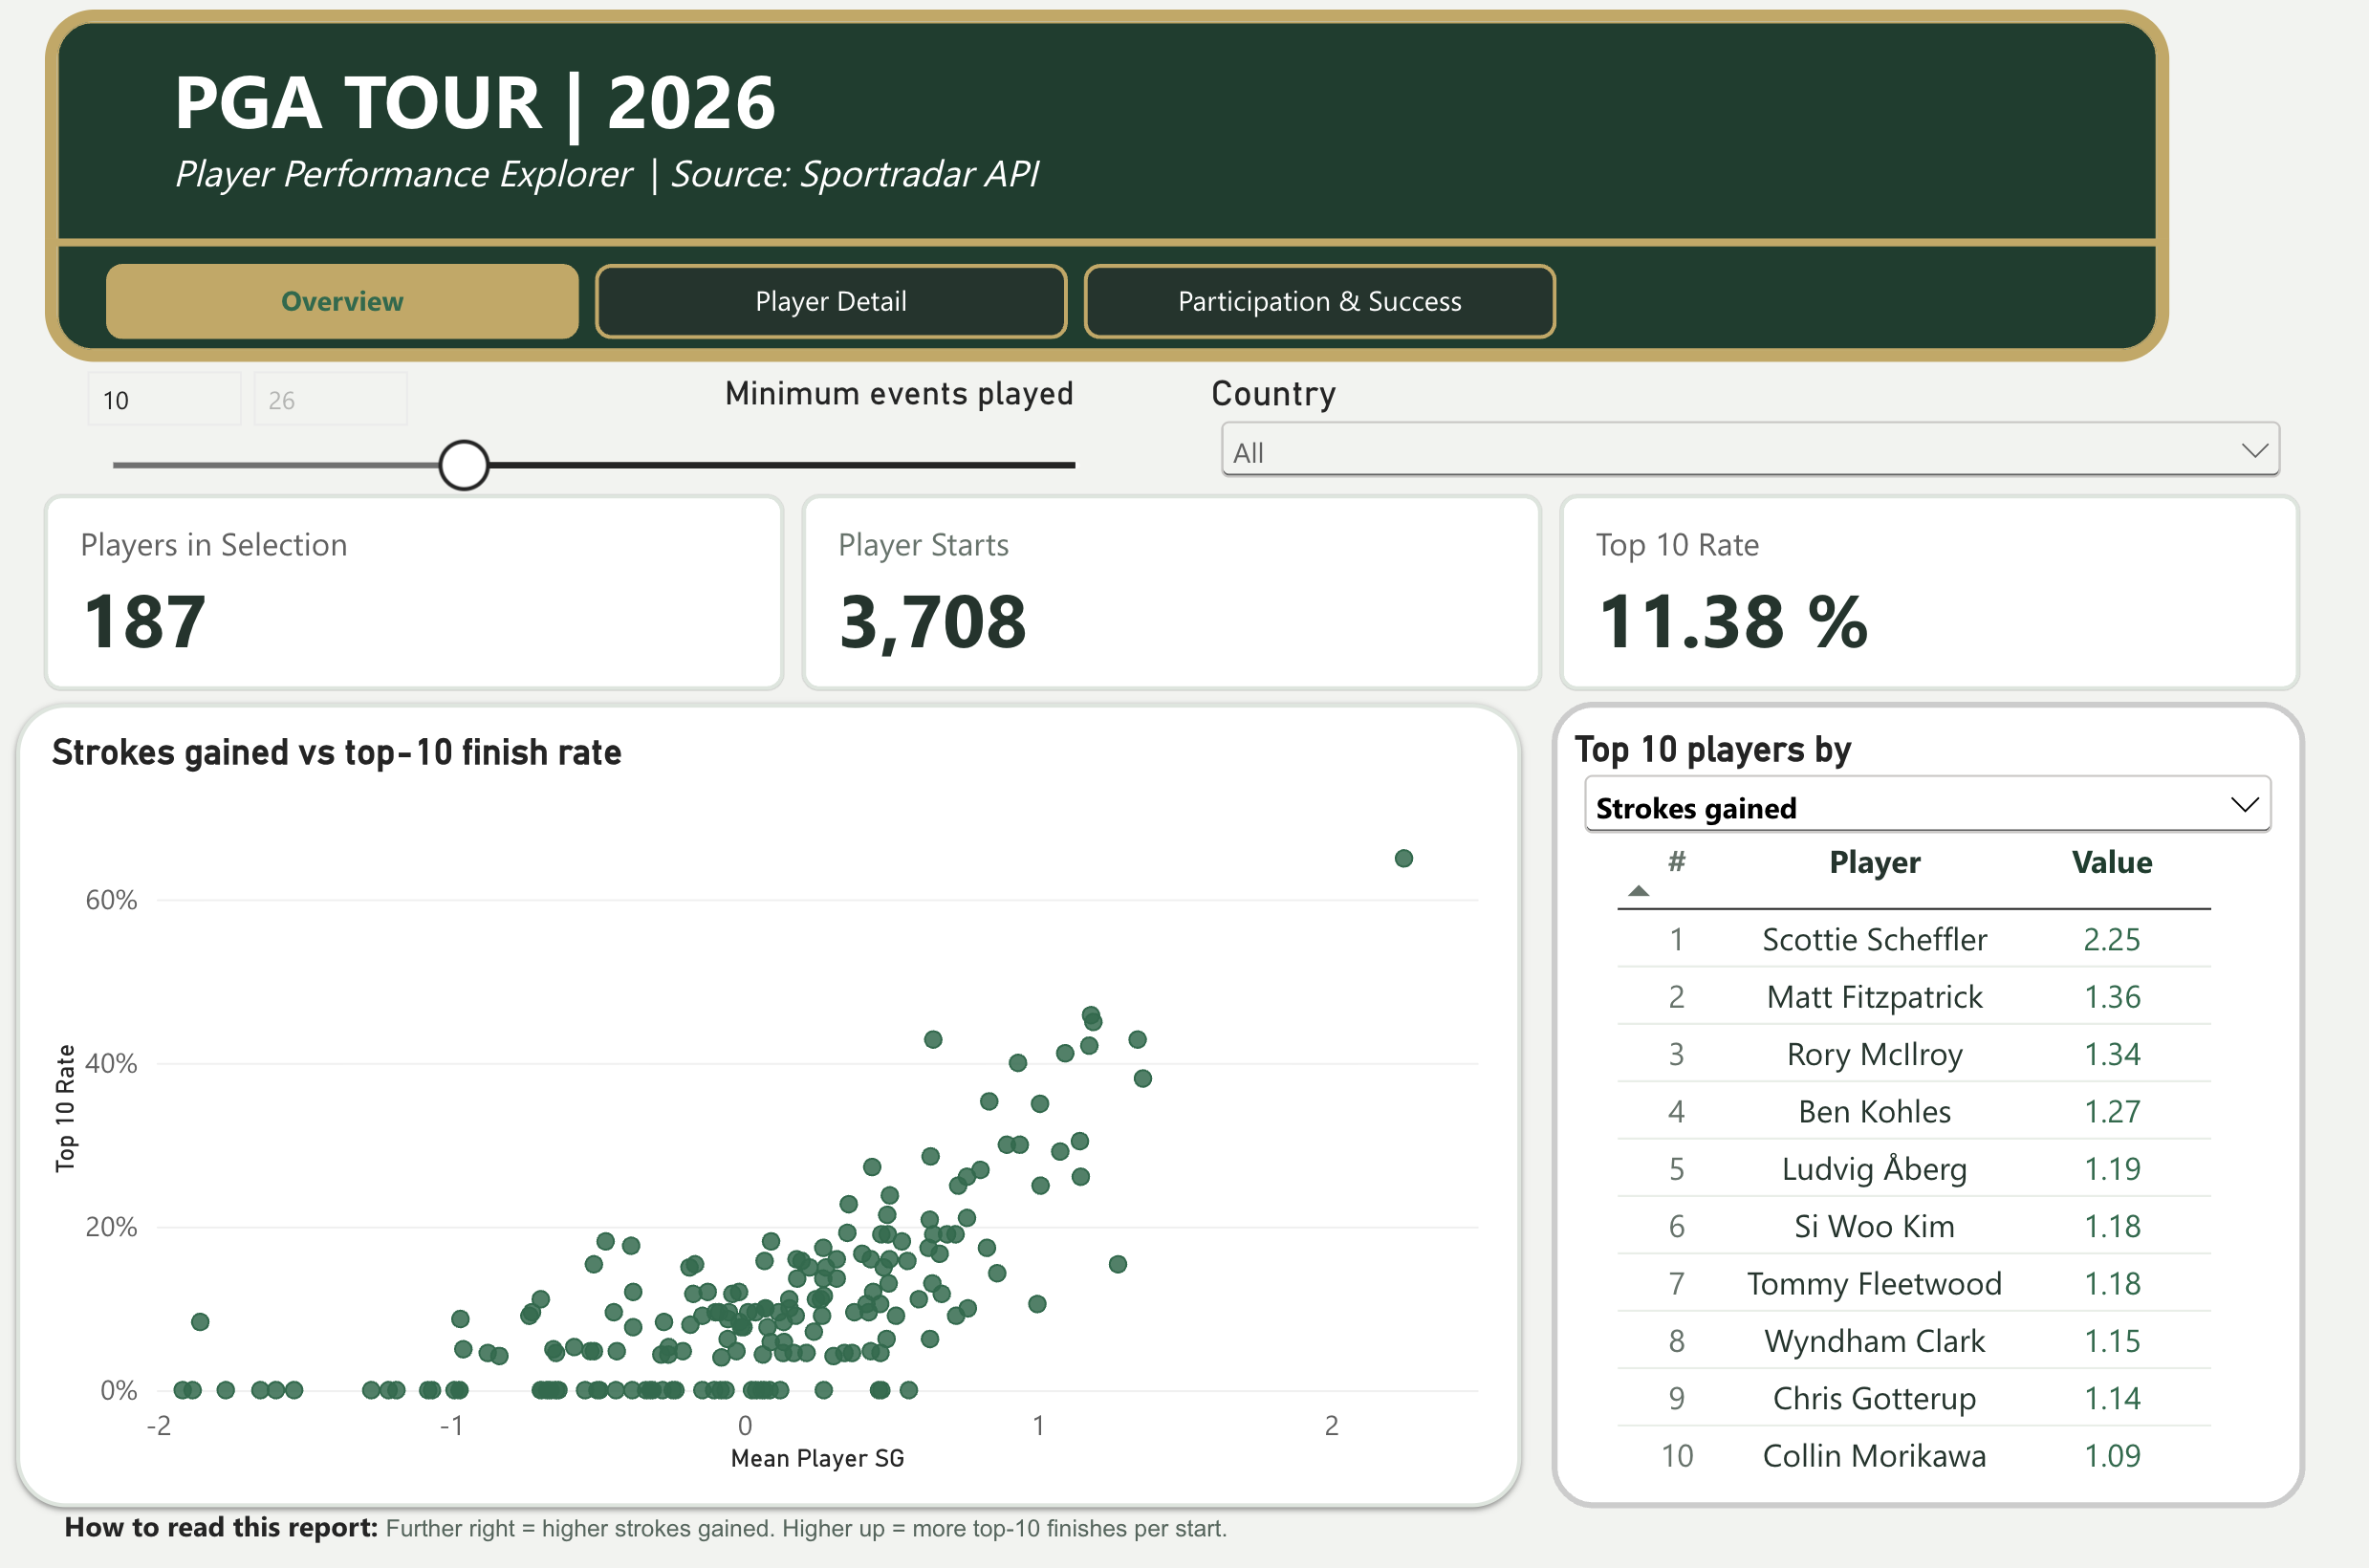

The page's visual inventory and layout, read from the dashboard file:
{"tool":"powerbi","page":{"name":"Overview","canvas":[1200,800],"ordinal":0},"visuals":[{"type":"shape","box":[785.6,360,380.9,407.4],"z":0},{"type":"shape","box":[24.6,11.1,1073.5,178.1],"z":1000},{"type":"cardVisual","fields":{"Data":["pga_player_stats.Players","pga_player_stats.Player Starts","pga_player_stats.Top 10 Rate"]},"box":[23.3,255.5,1143.3,100],"z":2000},{"type":"scatterChart","title":"Strokes gained vs top-10 finish rate","fields":{"Category":["pga_player_stats.Player short name"],"X":["pga_player_stats.Mean Player SG"],"Y":["pga_player_stats.Top 10 Rate"]},"box":[9.8,361.4,760.5,406],"z":3000},{"type":"slicer","title":"Country","fields":{"Values":["pga_player_stats.country"]},"box":[613.3,195.9,545.7,61.4],"z":4000},{"type":"slicer","fields":{"Values":["pga_player_stats.events_played"]},"box":[37.6,188.7,525.7,77.1],"z":5000},{"type":"textbox","box":[88.6,30,571.4,98.6],"z":6000},{"type":"textbox","box":[34.3,767.1,822.9,32.9],"z":7000},{"type":"textbox","box":[363.6,195.3,197.7,31.9],"z":8000},{"type":"shape","box":[24.6,104.4,1073.5,47.9],"z":9000},{"type":"tableEx","title":"Top 5 Players (in selection)","fields":{"Values":["pga_player_stats.Leaderboard Rank","pga_player_stats.Player name","pga_player_stats.Leaderboard Display Value"]},"box":[802.3,413,348.8,371.2],"z":10000},{"type":"pageNavigator","box":[55.3,138.8,733.3,38.1],"z":11000},{"type":"slicer","title":"Top 10 players by","fields":{"Values":["Metric Selector.Metric"]},"box":[797.2,375.8,357.3,92.7],"z":12000}]}

Visuals, with their boxes in screenshot pixels (x1, y1, x2, y2), scaled from the page's 1200x800 canvas onto the 2369x1568 screenshot:
shape: crop(1551, 706, 2303, 1504)
shape: crop(49, 22, 2168, 371)
cardVisual - pga_player_stats.Players x pga_player_stats.Player Starts: crop(46, 501, 2303, 697)
"Strokes gained vs top-10 finish rate" scatterChart: crop(19, 708, 1521, 1504)
"Country" slicer: crop(1210, 384, 2288, 504)
slicer - pga_player_stats.events_played: crop(75, 370, 1112, 521)
textbox: crop(175, 58, 1303, 252)
textbox: crop(68, 1504, 1692, 1567)
textbox: crop(718, 382, 1108, 446)
shape: crop(49, 205, 2168, 298)
"Top 5 Players (in selection)" tableEx: crop(1584, 810, 2272, 1537)
pageNavigator: crop(109, 272, 1556, 347)
"Top 10 players by" slicer: crop(1574, 736, 2279, 918)
